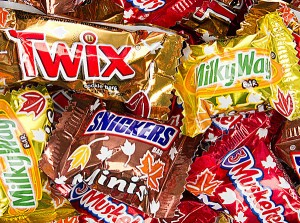snickers: (86, 110, 174, 144), (86, 110, 175, 133)
